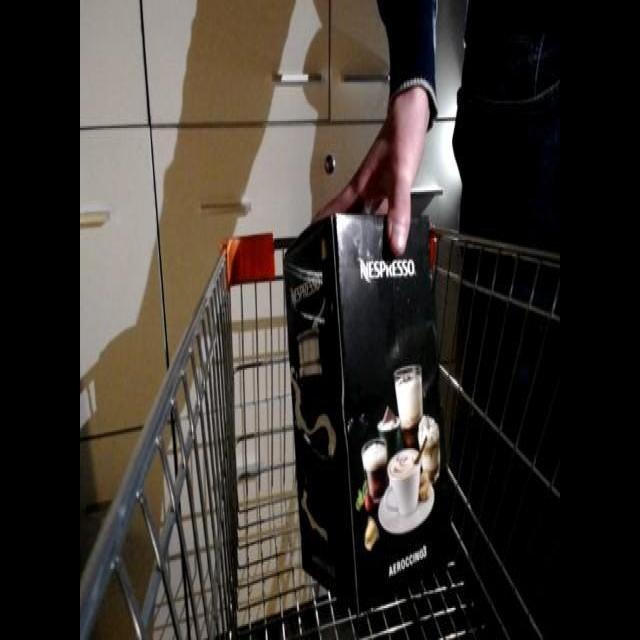Nespresso: (280, 192, 460, 613)
